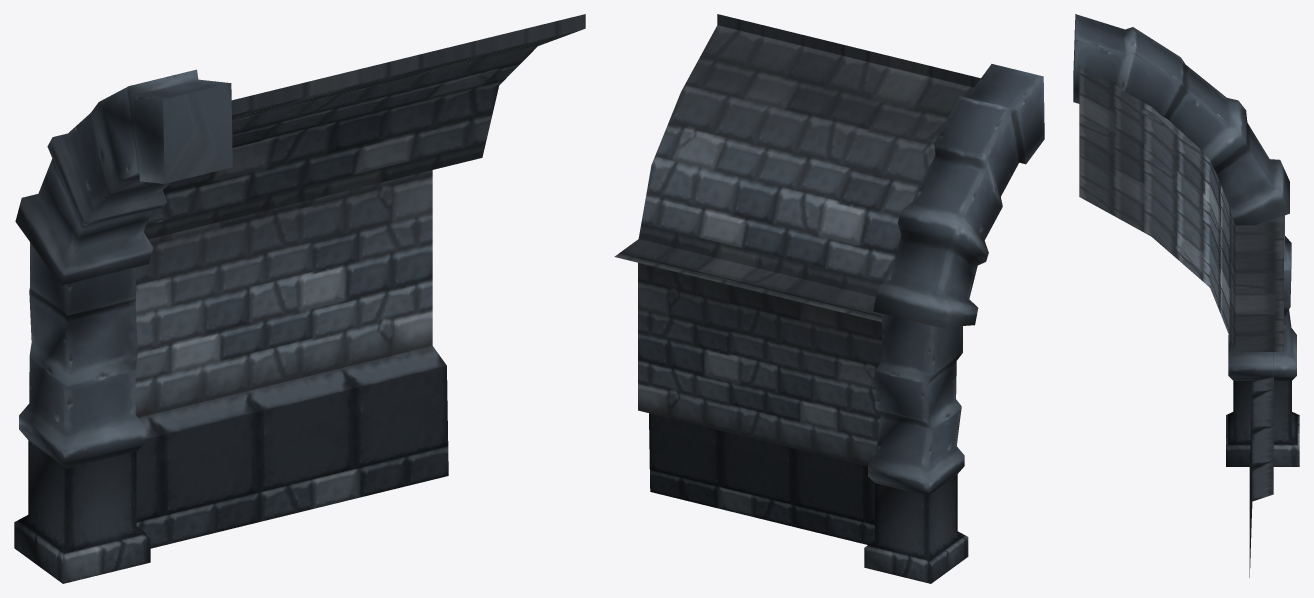
Rendered from wall dungeon2-left.FBX.
The picture shows the model from 3 angles, left to right: view 1: azimuth 30°, elevation 25°; view 2: azimuth 150°, elevation 25°; view 3: azimuth 270°, elevation 25°; orthographic projection. The views are drawn at different scales.
Visible parts, largest first — view 1: wall dungeon2-left; view 2: wall dungeon2-left; view 3: wall dungeon2-left.
Boxes of the visible parts, x1,y1,x2,y2 form: wall dungeon2-left: (14, 14, 585, 583); wall dungeon2-left: (614, 14, 1044, 583); wall dungeon2-left: (1073, 14, 1299, 577).
Bounding box in the file's own units: 561 × 695 × 338.
